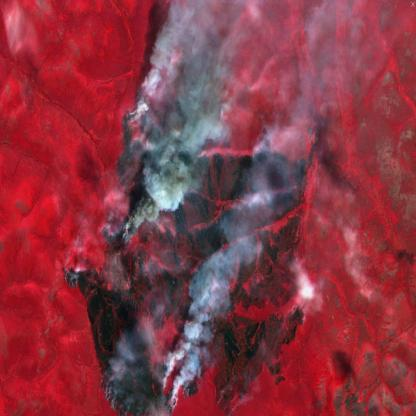fire: (58, 103, 314, 416)
